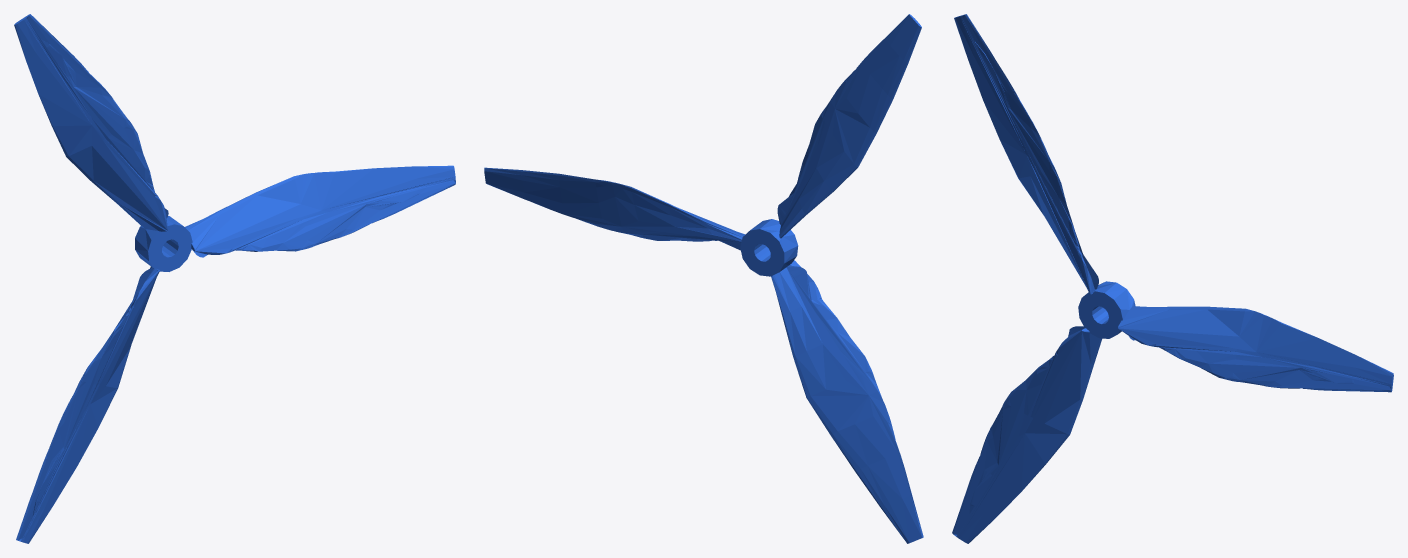
The model's file is prop_cw.obj.
The picture shows the model from 3 angles, left to right: view 1: azimuth 30°, elevation 25°; view 2: azimuth 150°, elevation 25°; view 3: azimuth 330°, elevation 25°; orthographic projection.
Bounding box in the file's own units: 130 × 150 × 9.15.
